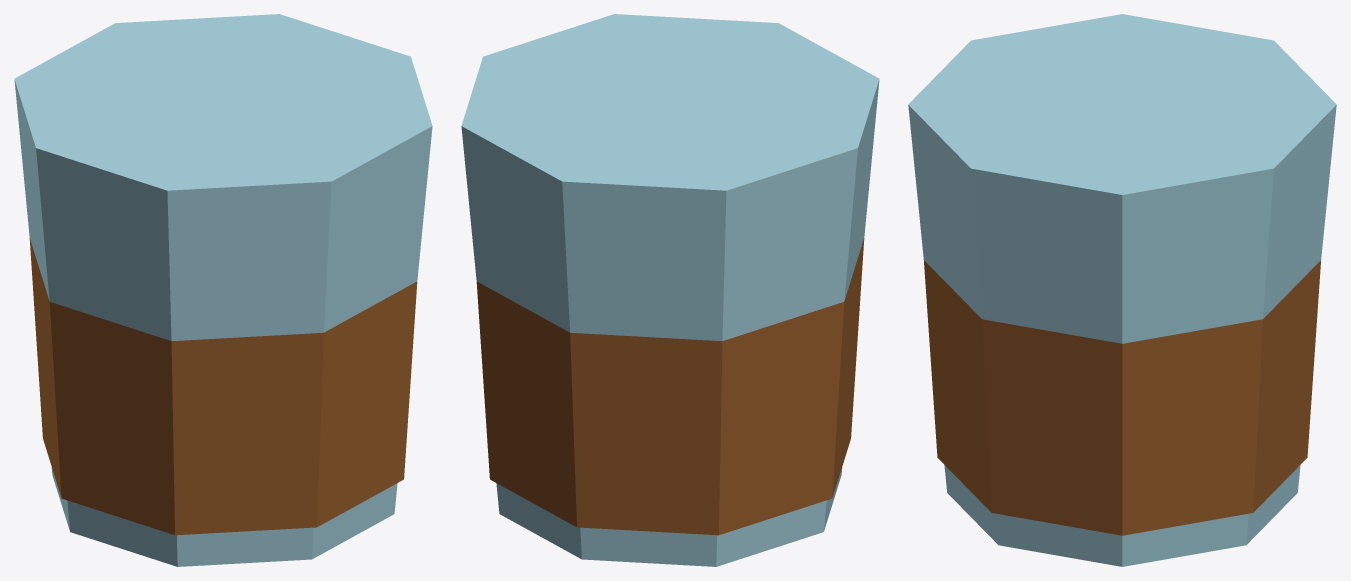
Rendered from icon_chai.glb.
3 renders of one model, left to right at view 1: azimuth 30°, elevation 25°; view 2: azimuth 150°, elevation 25°; view 3: azimuth 270°, elevation 25°, orthographic.
Visible parts, largest first — view 1: icon_chai; view 2: icon_chai; view 3: icon_chai.
Boxes of the visible parts, x1,y1,x2,y2 form: icon_chai: (14,14,432,566); icon_chai: (461,14,879,566); icon_chai: (908,14,1336,566).
Size of the model in its own units: 0.22 by 0.22 by 0.22.
Materials: 1 (1 with a texture image).
